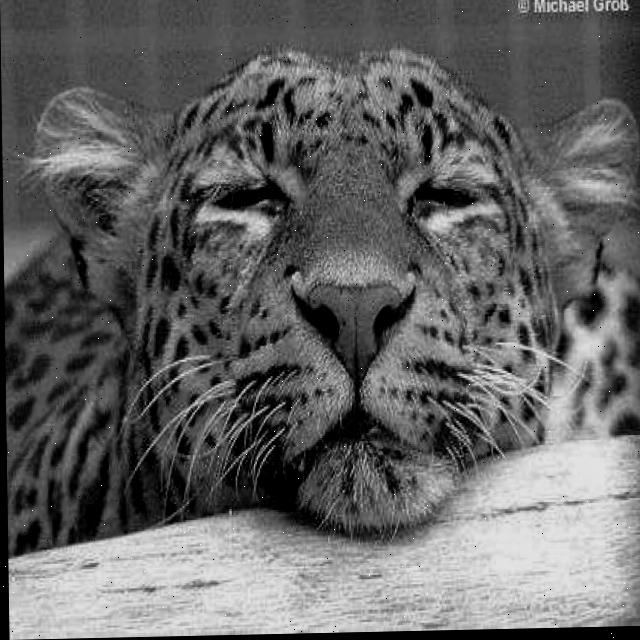Leopard: (4, 34, 640, 552)
